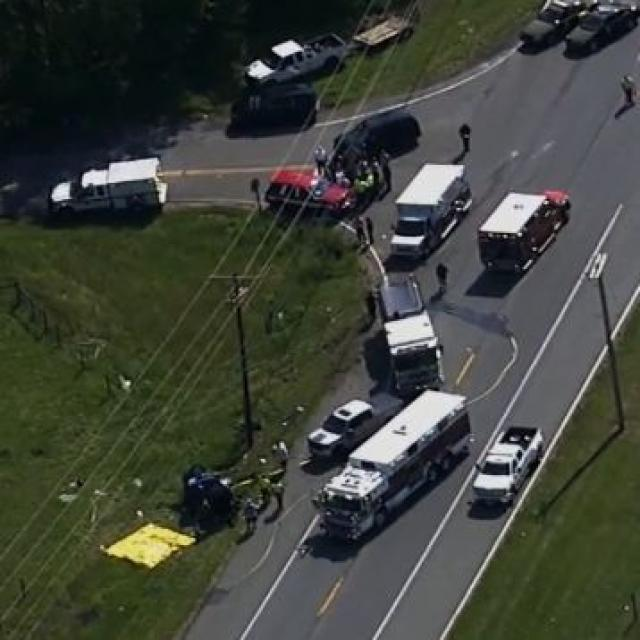traffic_incident: (266, 104, 424, 222), (173, 430, 281, 538)
